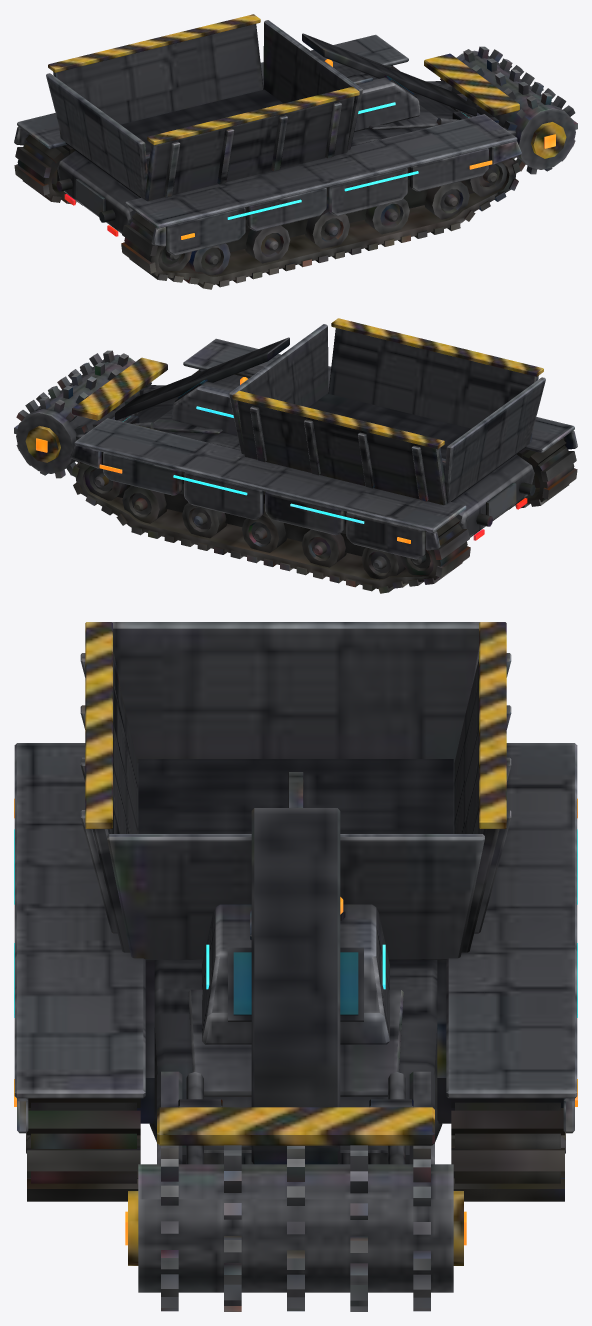
The model's file is prospector.glb.
The picture shows the model from 3 angles, top to bottom: view 1: azimuth 30°, elevation 25°; view 2: azimuth 150°, elevation 25°; view 3: azimuth 270°, elevation 25°; orthographic projection. The views are drawn at different scales.
Visible parts, largest first — view 1: Hull, Drum; view 2: Hull, Drum; view 3: Hull, Drum.
Boxes of the visible parts, bbox=[...] form: Hull: bbox=[14, 14, 521, 289]; Drum: bbox=[440, 46, 577, 174]; Hull: bbox=[70, 318, 577, 593]; Drum: bbox=[14, 350, 151, 478]; Hull: bbox=[14, 622, 577, 1201]; Drum: bbox=[125, 1145, 466, 1311].
Bounding box in the file's own units: 8.43 × 2.75 × 4.47.
Materials: 1 (1 with a texture image).
